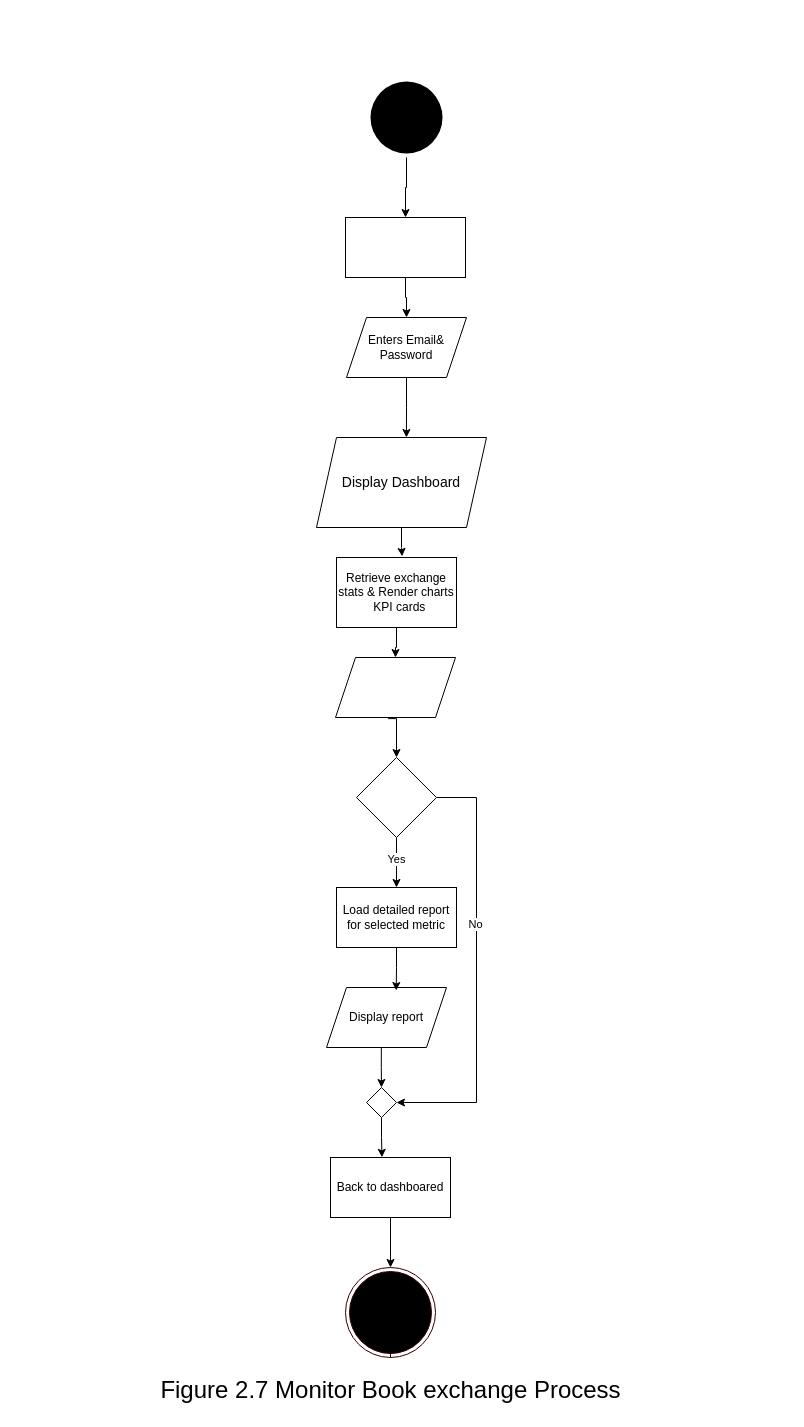
Some shapes in this 804 by 1427 pixel diagram are drawn without their labels. Each missing label, with the centre of its shape:
"Clicked Print?" goes at pixel 396 797.
"Login" goes at pixel 405 247.
"Show live dashboared to admins" goes at pixel 395 687.
